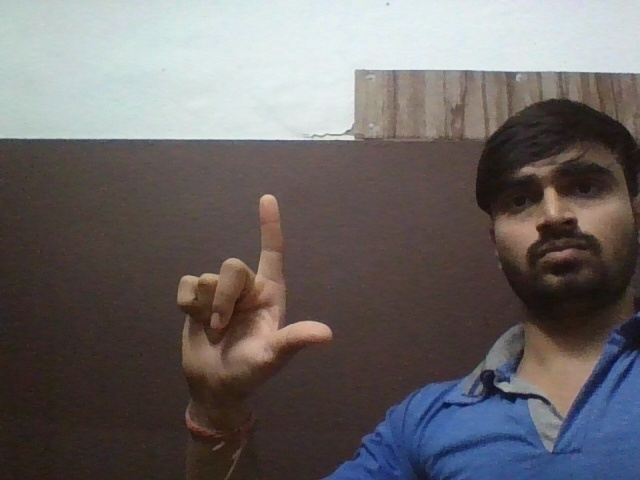L: (175, 185, 349, 411)
